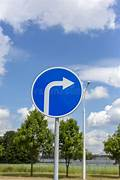right: (30, 66, 82, 116)
